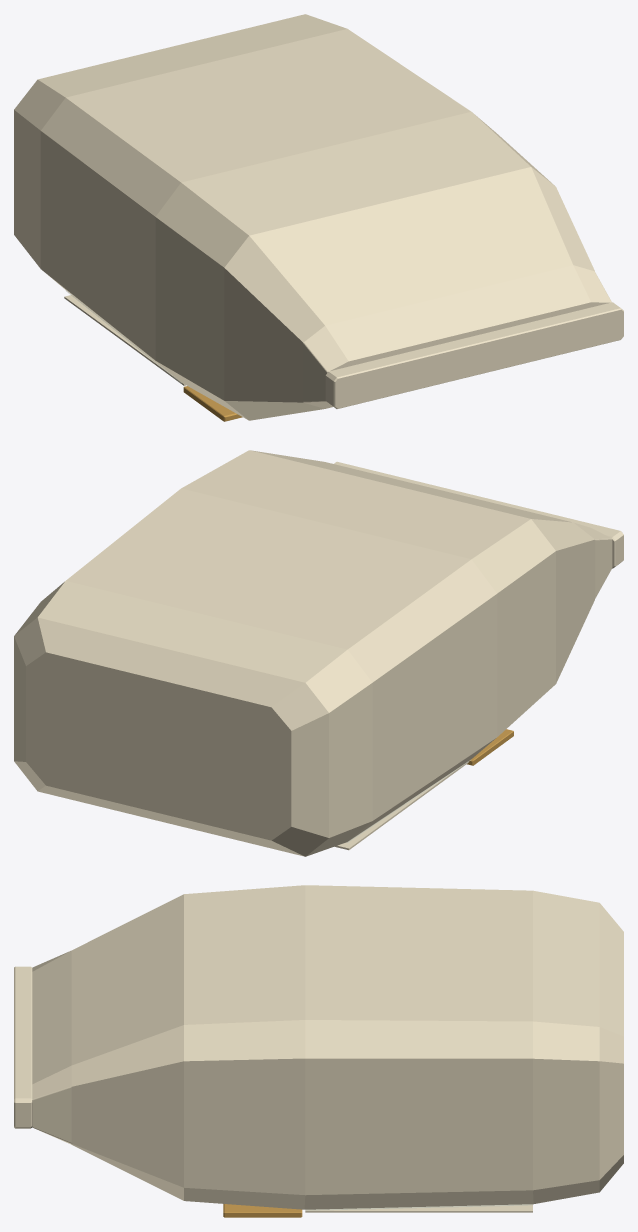
The model's file is millet.glb.
3 renders of one model, top to bottom at view 1: azimuth 30°, elevation 25°; view 2: azimuth 150°, elevation 25°; view 3: azimuth 270°, elevation 25°, orthographic. The views are drawn at different scales.
Visible parts, largest first — view 1: millet; view 2: millet; view 3: millet.
Part boxes in pixels (x1=…): millet: x1=14, y1=14, x2=623, y2=421; millet: x1=14, y1=450, x2=623, y2=856; millet: x1=14, y1=885, x2=623, y2=1217.
Size of the model in its own units: 0.1236 by 0.0721 by 0.201.
